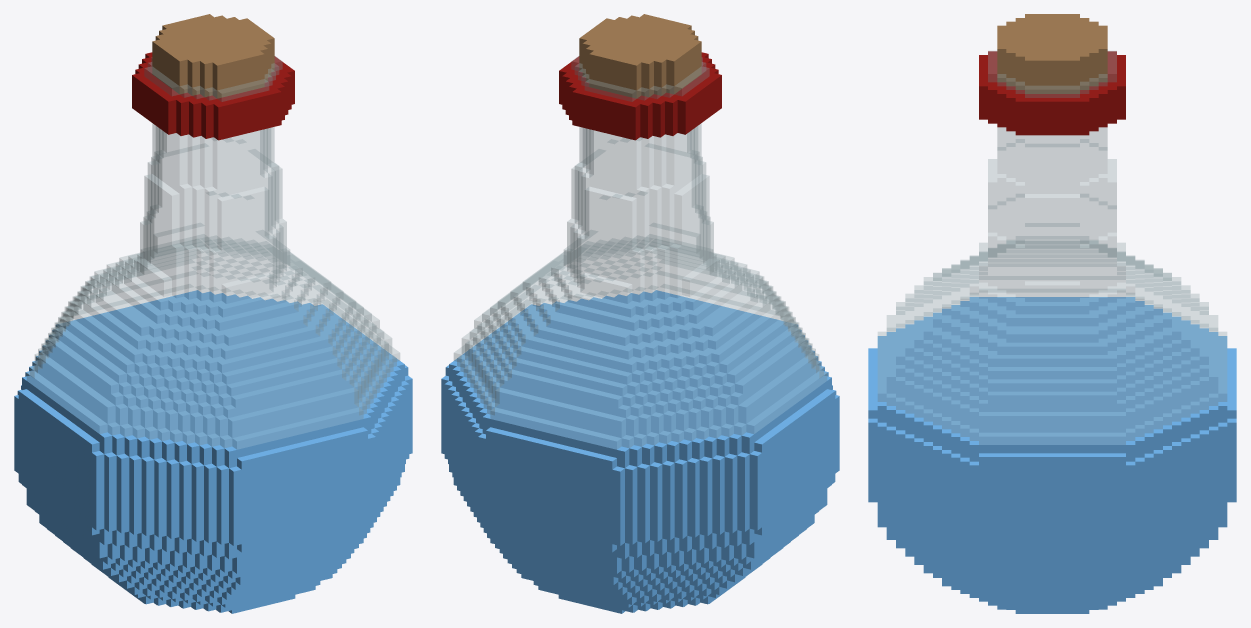
The model's file is mana_potion_lesser.glb.
3 renders of one model, left to right at view 1: azimuth 30°, elevation 25°; view 2: azimuth 150°, elevation 25°; view 3: azimuth 270°, elevation 25°, orthographic.
Visible parts, largest first — view 1: mana_potion_lesser:compound; view 2: mana_potion_lesser:compound; view 3: mana_potion_lesser:compound.
Boxes of the visible parts, x1,y1,x2,y2 form: mana_potion_lesser:compound: (14, 14, 412, 613); mana_potion_lesser:compound: (441, 14, 839, 613); mana_potion_lesser:compound: (868, 14, 1236, 613).
Size of the model in its own units: 0.08 by 0.128 by 0.08.
